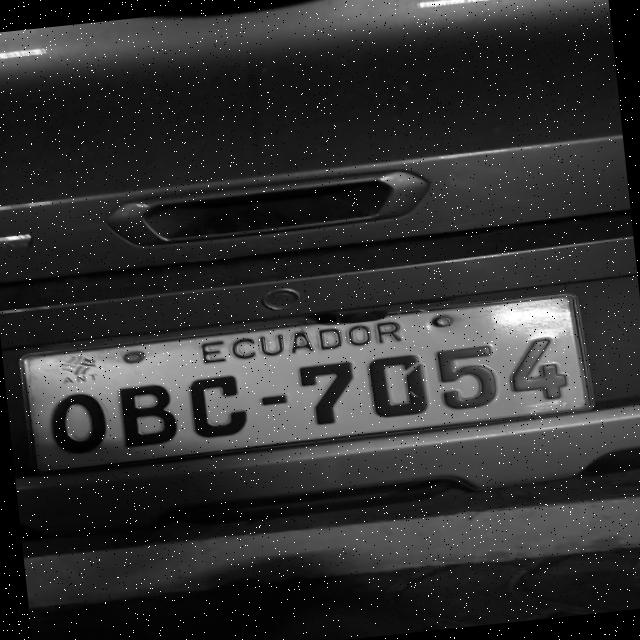Placa: (23, 295, 590, 471)
